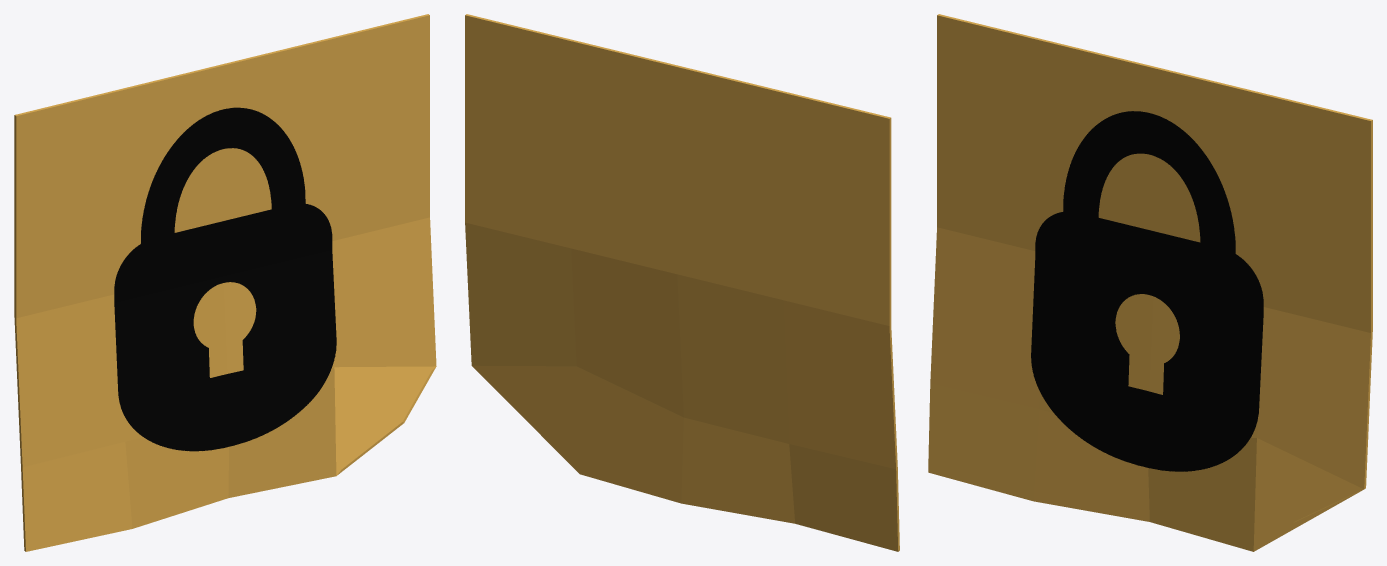
The model's file is LockSticker.fbx.
The picture shows the model from 3 angles, left to right: view 1: azimuth 30°, elevation 25°; view 2: azimuth 150°, elevation 25°; view 3: azimuth 330°, elevation 25°; orthographic projection. The views are drawn at different scales.
Visible parts, largest first — view 1: Plane, lock; view 2: Plane; view 3: Plane, lock.
Part boxes in pixels (x1=…): Plane: x1=14, y1=14, x2=436, y2=551; lock: x1=114, y1=107, x2=336, y2=451; Plane: x1=465, y1=14, x2=899, y2=551; Plane: x1=928, y1=14, x2=1372, y2=551; lock: x1=1031, y1=111, x2=1263, y2=471.
Bounding box in the file's own units: 200 × 198 × 21.91.
